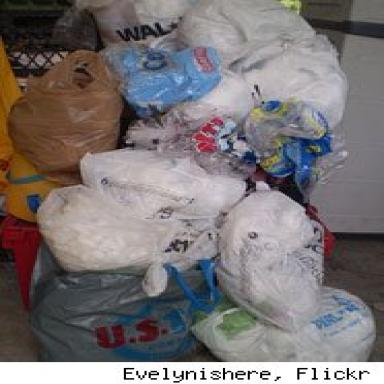plasticbag: (21, 149, 227, 268), (30, 250, 205, 363), (214, 186, 348, 323), (198, 78, 360, 190), (15, 54, 140, 189), (199, 282, 384, 369)
